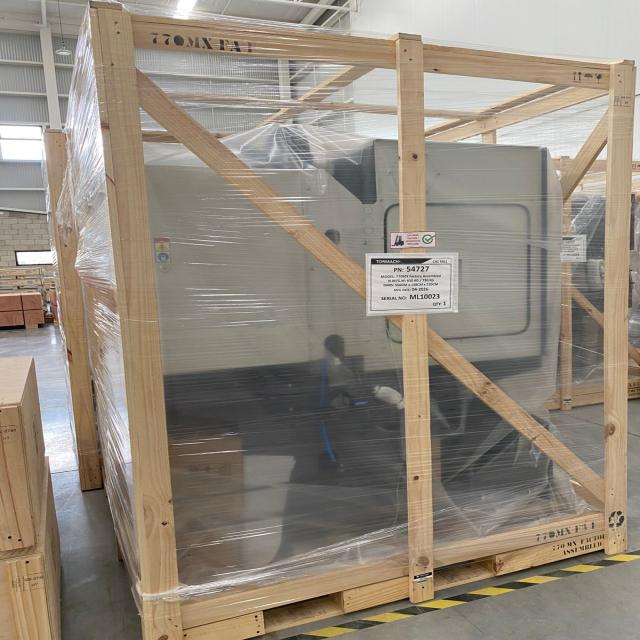770p: (86, 0, 639, 640)
